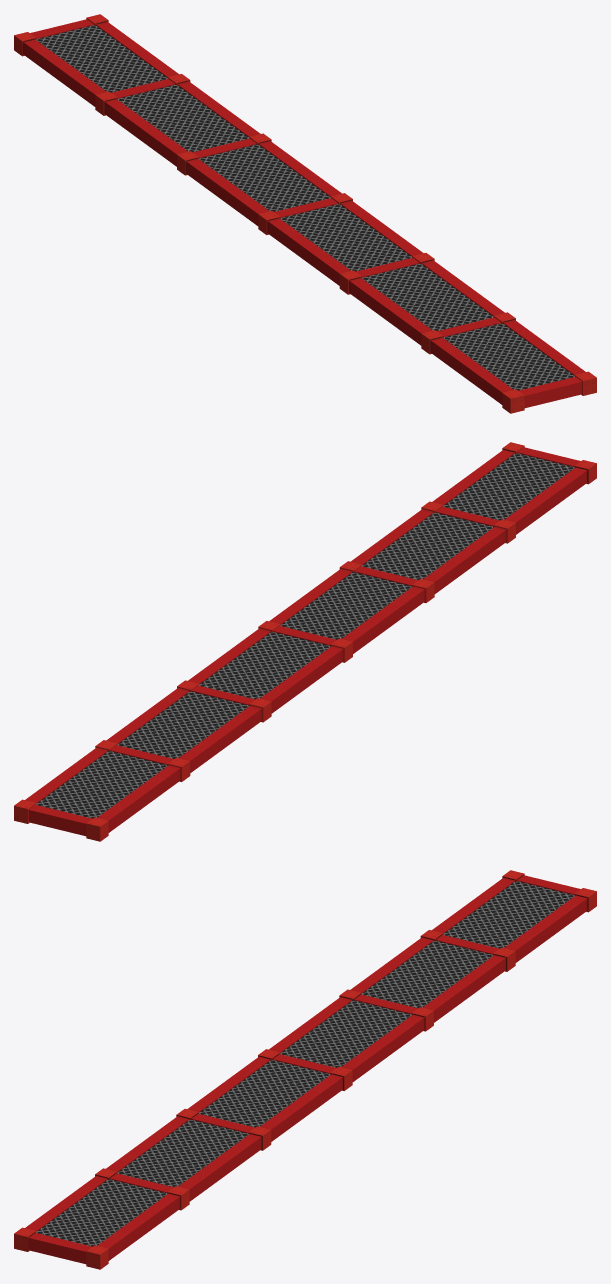
File: RoadKanaamiNarrow6_Prefab.fbx
The picture shows the model from 3 angles, top to bottom: view 1: azimuth 30°, elevation 25°; view 2: azimuth 150°, elevation 25°; view 3: azimuth 330°, elevation 25°; orthographic projection.
Parts seen in each view (by area): view 1: RoadKanaamiNarrow6; view 2: RoadKanaamiNarrow6; view 3: RoadKanaamiNarrow6.
Boxes of the visible parts, x1,y1,x2,y2 form: RoadKanaamiNarrow6: (14,14,596,413); RoadKanaamiNarrow6: (14,442,596,841); RoadKanaamiNarrow6: (14,870,596,1269).
Size of what is drawn, in the model's own units: 10.16 by 1.69 by 101.
